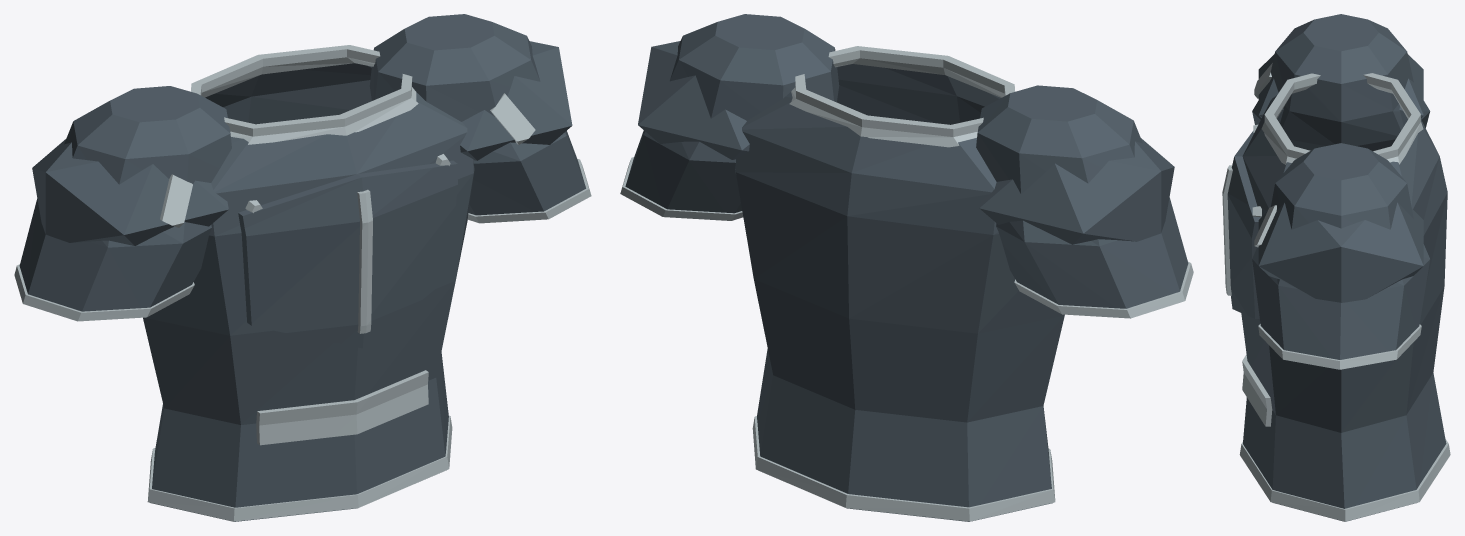
Rendered from plate_chest-male.glb.
The picture shows the model from 3 angles, left to right: view 1: azimuth 30°, elevation 25°; view 2: azimuth 150°, elevation 25°; view 3: azimuth 270°, elevation 25°; orthographic projection. The views are drawn at different scales.
Visible parts, largest first — view 1: plate tunic torso, Faceted breastplate reinforcement, plate upper sleeve -1, plate upper sleeve 1, Plate pauldron -1, Fitted tunic neckline, Articulated abdominal overlap, Plate pauldron 1, Bound tunic hem, Sleeve cuff binding -1, Breastplate folded center ridge, Sleeve cuff binding 1 (+2 smaller); view 2: plate tunic torso, plate upper sleeve -1, plate upper sleeve 1, Plate pauldron -1, Fitted tunic neckline, Plate pauldron 1, Bound tunic hem, Sleeve cuff binding -1, Sleeve cuff binding 1; view 3: plate tunic torso, plate upper sleeve 1, plate upper sleeve -1, Plate pauldron 1, Faceted breastplate reinforcement, Fitted tunic neckline, Bound tunic hem, Sleeve cuff binding 1, Plate pauldron -1, Articulated abdominal overlap, Breastplate folded center ridge, Pauldron bound front edge 1 (+1 smaller).
Boxes of the visible parts, x1,y1,x2,y2 form: plate tunic torso: [143, 63, 474, 521]; Faceted breastplate reinforcement: [238, 160, 457, 348]; plate upper sleeve -1: [19, 86, 231, 311]; plate upper sleeve 1: [369, 14, 585, 215]; Plate pauldron -1: [32, 139, 228, 245]; Fitted tunic neckline: [191, 45, 418, 144]; Articulated abdominal overlap: [256, 370, 428, 445]; Plate pauldron 1: [460, 41, 572, 160]; Bound tunic hem: [147, 415, 452, 521]; Sleeve cuff binding -1: [14, 264, 194, 321]; Breastplate folded center ridge: [357, 189, 372, 333]; Sleeve cuff binding 1: [467, 159, 591, 223]; plate tunic torso: [735, 64, 1064, 521]; plate upper sleeve -1: [976, 85, 1188, 308]; plate upper sleeve 1: [625, 14, 839, 213]; Plate pauldron -1: [979, 138, 1174, 244]; Fitted tunic neckline: [789, 46, 1014, 147]; Plate pauldron 1: [638, 41, 749, 159]; Bound tunic hem: [752, 416, 1055, 521]; Sleeve cuff binding -1: [1014, 261, 1193, 318]; Sleeve cuff binding 1: [620, 157, 743, 220]; plate tunic torso: [1241, 95, 1447, 521]; plate upper sleeve 1: [1252, 143, 1430, 359]; plate upper sleeve -1: [1252, 14, 1430, 151]; Plate pauldron 1: [1258, 202, 1423, 302]; Faceted breastplate reinforcement: [1227, 131, 1260, 318]; Fitted tunic neckline: [1261, 73, 1423, 164]; Bound tunic hem: [1239, 439, 1450, 521]; Sleeve cuff binding 1: [1258, 324, 1421, 369]; Plate pauldron -1: [1258, 54, 1423, 126]; Articulated abdominal overlap: [1242, 354, 1272, 426]; Breastplate folded center ridge: [1222, 165, 1232, 295]; Pauldron bound front edge 1: [1254, 205, 1276, 247].
Bounding box in the file's own units: 3.65 × 2.49 × 1.44.
